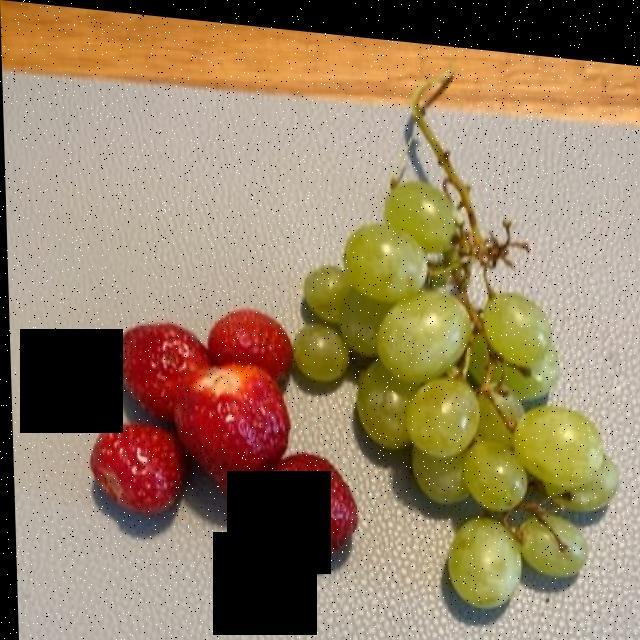grapes: (300, 101, 609, 585)
strawberries: (92, 303, 347, 549)
